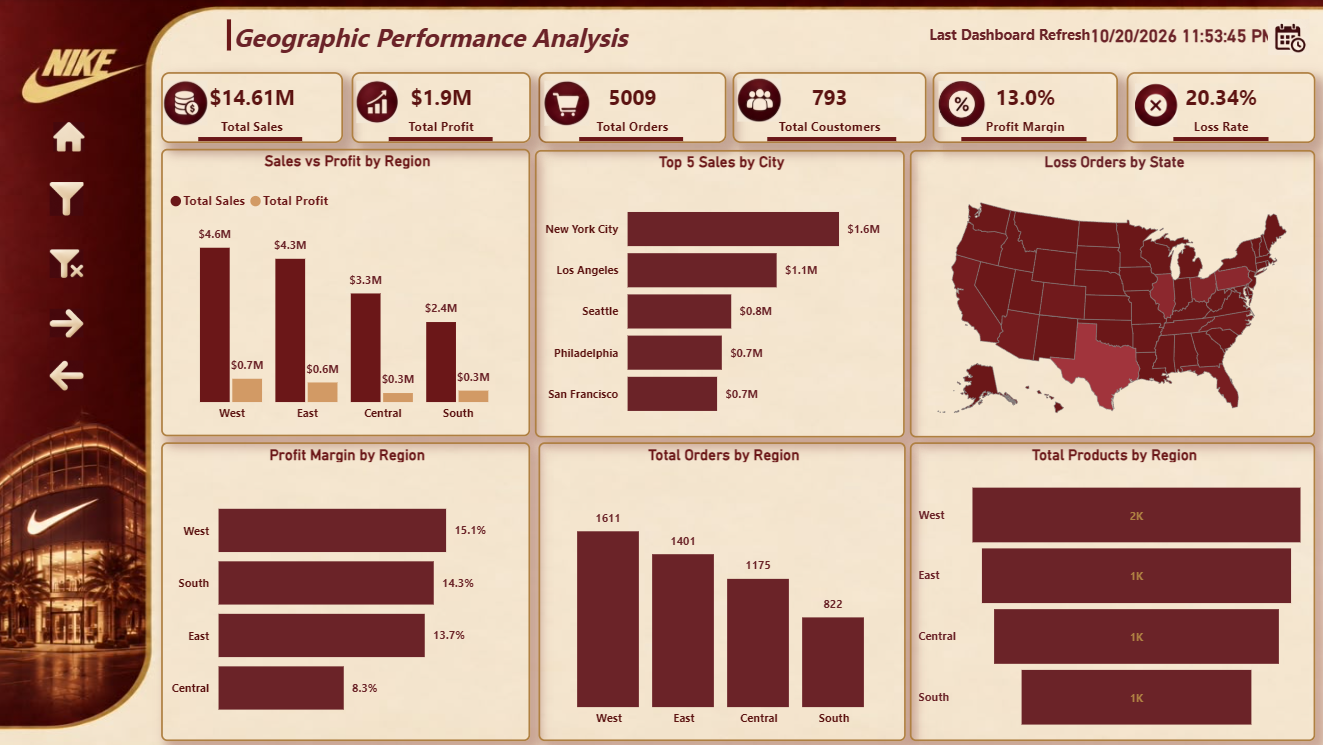

Layout of this report page (visuals, bound fields, positions):
{"tool":"powerbi","page":{"name":"Geographic ","canvas":[1280,720],"ordinal":4},"visuals":[{"type":"card","fields":{"Values":["DAX_Measures.Total Sales"]},"box":[158,70,174.9,68.8],"z":0},{"type":"card","fields":{"Values":["DAX_Measures.Total Orders"]},"box":[521.2,70,181,68.8],"z":1000},{"type":"card","fields":{"Values":["DAX_Measures.Total Coustomers"]},"box":[708.2,70,187,68.8],"z":2000},{"type":"card","fields":{"Values":["DAX_Measures.Profit Margin"]},"box":[901.2,70,178.6,68.8],"z":3000},{"type":"card","fields":{"Values":["DAX_Measures.Total Profit"]},"box":[341.4,70,172.5,68.8],"z":4000},{"type":"card","fields":{"Values":["DAX_Measures.Loss Rate"]},"box":[1088.8,70,182.2,68.8],"z":4000,"group":"g1"},{"type":"shape","box":[206.3,19.3,33.8,30.2],"z":5000},{"type":"textbox","box":[223.2,14.5,400.5,42.2],"z":6000},{"type":"card","fields":{"Values":["DAX_Measures.System Time"]},"box":[1041.2,16.9,202.7,37.4],"z":7000},{"type":"textbox","box":[892.8,19.3,174.9,35],"z":8000},{"type":"image","box":[1224.5,14.5,39.8,43.4],"z":9000},{"type":"shape","box":[194.2,109.8,100.1,50.7],"z":10000},{"type":"shape","box":[377.6,109.8,100.1,50.7],"z":11000},{"type":"shape","box":[561,109.8,100.1,50.7],"z":12000},{"type":"shape","box":[742,109.8,124.3,50.7],"z":13000},{"type":"shape","box":[929,109.8,120.6,50.7],"z":14000},{"type":"shape","box":[1132.8,109.8,91.7,50.7],"z":15000},{"type":"group","id":"g1","title":"Group 1","box":[160.3,70,1110.7,68.8],"z":16000},{"type":"image","box":[346.2,76.2,40,46.2],"z":17000},{"type":"image","box":[527.2,76,43.4,48.3],"z":18000},{"type":"image","box":[713.6,74.1,42.5,46.7],"z":19000},{"type":"image","box":[907,76.8,45.3,48],"z":20000},{"type":"lineClusteredColumnComboChart","title":"Sales vs Profit by Region","fields":{"Category":["People.Region"],"Y":["DAX_Measures.Total Sales","DAX_Measures.Total Profit"]},"box":[158,144.8,355.9,277.5],"z":21000},{"type":"clusteredBarChart","title":"Top 5 Sales by City","fields":{"Category":["Dim_Country.City"],"Y":["DAX_Measures.Total Sales"]},"box":[518.7,145.5,356.8,277.2],"z":22000},{"type":"shapeMap","fields":{"Category":["Dim_Country.State"],"Value":["DAX_Measures.Loss Orders"]},"box":[879.6,145.5,391.1,277.2],"z":23000},{"type":"clusteredBarChart","fields":{"Category":["People.Region"],"Y":["DAX_Measures.Profit Margin"]},"box":[157.8,426.8,355.4,288.2],"z":24000},{"type":"image","box":[160.3,78.4,42.2,43.4],"z":25000,"group":"g1"},{"type":"clusteredColumnChart","fields":{"Category":["People.Region"],"Y":["DAX_Measures.Total Orders"]},"box":[521.4,426.8,354,288.2],"z":25000},{"type":"funnel","fields":{"Category":["People.Region"],"Y":["DAX_Measures.Total Products"]},"box":[879.6,426.8,391.1,288.2],"z":26000},{"type":"image","box":[1096.4,74.1,41.2,56.3],"z":27000},{"type":"image","box":[53.8,102.5,30,60],"z":28000},{"type":"image","box":[51.2,170,32.5,46.2],"z":29000},{"type":"image","box":[51.2,217.5,32.5,76.2],"z":30000},{"type":"image","box":[51.2,293.8,32.5,36.2],"z":31000},{"type":"image","box":[51.2,343.8,32.5,37.5],"z":32000}]}

Visuals, with their boxes in screenshot pixels (x1, y1, x2, y2), scaled from the page's 1280x720 canvas onto the 1323x745 screenshot:
card - DAX_Measures.Total Sales: {"left": 163, "top": 72, "right": 344, "bottom": 144}
card - DAX_Measures.Total Orders: {"left": 539, "top": 72, "right": 726, "bottom": 144}
card - DAX_Measures.Total Coustomers: {"left": 732, "top": 72, "right": 925, "bottom": 144}
card - DAX_Measures.Profit Margin: {"left": 931, "top": 72, "right": 1116, "bottom": 144}
card - DAX_Measures.Total Profit: {"left": 353, "top": 72, "right": 531, "bottom": 144}
card - DAX_Measures.Loss Rate: {"left": 1125, "top": 72, "right": 1314, "bottom": 144}
shape: {"left": 213, "top": 20, "right": 248, "bottom": 51}
textbox: {"left": 231, "top": 15, "right": 645, "bottom": 59}
card - DAX_Measures.System Time: {"left": 1076, "top": 17, "right": 1286, "bottom": 56}
textbox: {"left": 923, "top": 20, "right": 1104, "bottom": 56}
image: {"left": 1266, "top": 15, "right": 1307, "bottom": 60}
shape: {"left": 201, "top": 114, "right": 304, "bottom": 166}
shape: {"left": 390, "top": 114, "right": 494, "bottom": 166}
shape: {"left": 580, "top": 114, "right": 683, "bottom": 166}
shape: {"left": 767, "top": 114, "right": 895, "bottom": 166}
shape: {"left": 960, "top": 114, "right": 1085, "bottom": 166}
shape: {"left": 1171, "top": 114, "right": 1266, "bottom": 166}
"Group 1" group: {"left": 166, "top": 72, "right": 1314, "bottom": 144}
image: {"left": 358, "top": 79, "right": 399, "bottom": 127}
image: {"left": 545, "top": 79, "right": 590, "bottom": 129}
image: {"left": 738, "top": 77, "right": 782, "bottom": 125}
image: {"left": 937, "top": 79, "right": 984, "bottom": 129}
"Sales vs Profit by Region" lineClusteredColumnComboChart: {"left": 163, "top": 150, "right": 531, "bottom": 437}
"Top 5 Sales by City" clusteredBarChart: {"left": 536, "top": 151, "right": 905, "bottom": 437}
shapeMap - Dim_Country.State x DAX_Measures.Loss Orders: {"left": 909, "top": 151, "right": 1313, "bottom": 437}
clusteredBarChart - People.Region x DAX_Measures.Profit Margin: {"left": 163, "top": 442, "right": 530, "bottom": 740}
image: {"left": 166, "top": 81, "right": 209, "bottom": 126}
clusteredColumnChart - People.Region x DAX_Measures.Total Orders: {"left": 539, "top": 442, "right": 905, "bottom": 740}
funnel - People.Region x DAX_Measures.Total Products: {"left": 909, "top": 442, "right": 1313, "bottom": 740}
image: {"left": 1133, "top": 77, "right": 1176, "bottom": 135}
image: {"left": 56, "top": 106, "right": 87, "bottom": 168}
image: {"left": 53, "top": 176, "right": 87, "bottom": 224}
image: {"left": 53, "top": 225, "right": 87, "bottom": 304}
image: {"left": 53, "top": 304, "right": 87, "bottom": 341}
image: {"left": 53, "top": 356, "right": 87, "bottom": 395}
